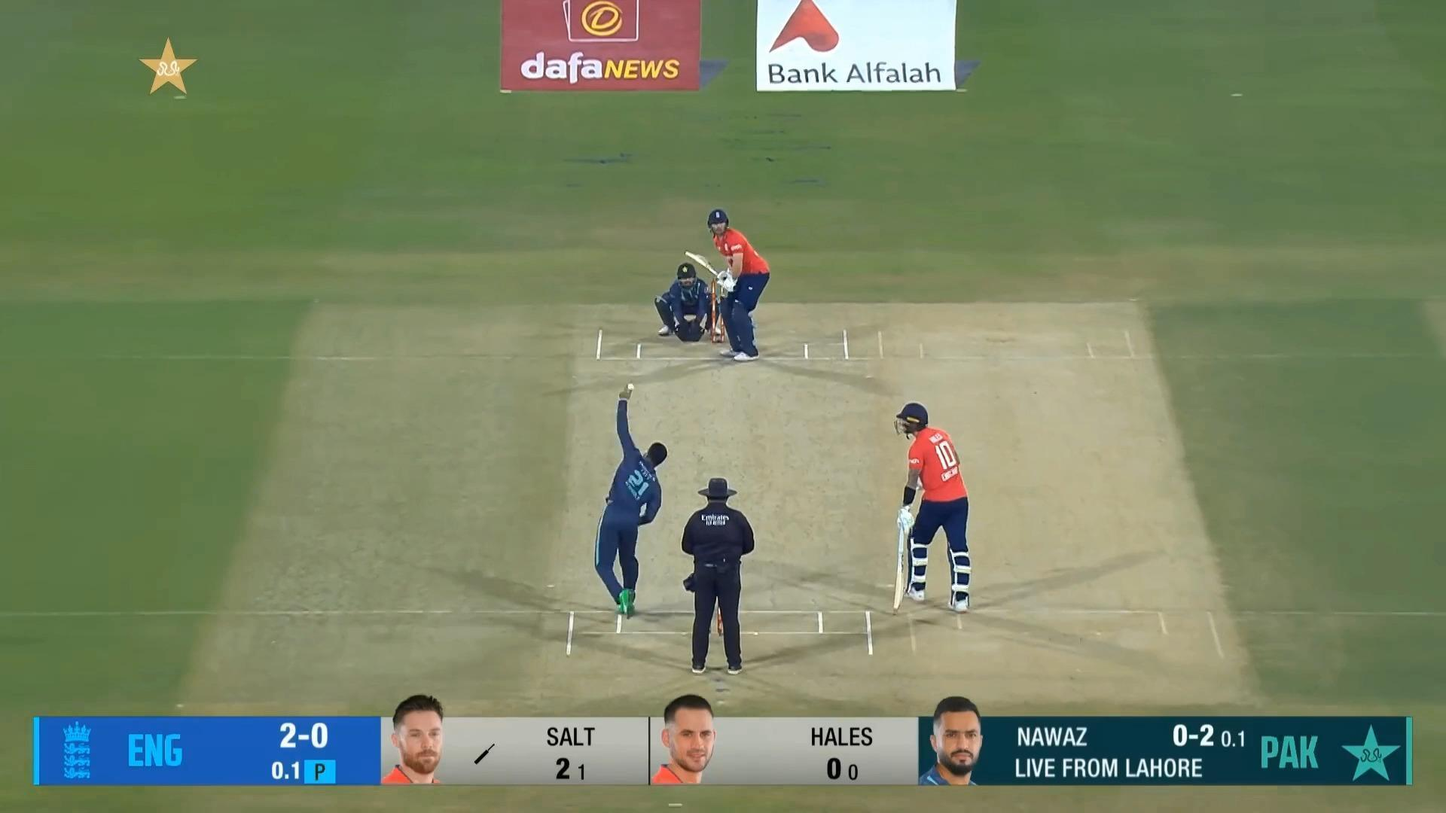BM 1: (686, 210, 771, 362)
BO: (591, 379, 669, 619)
